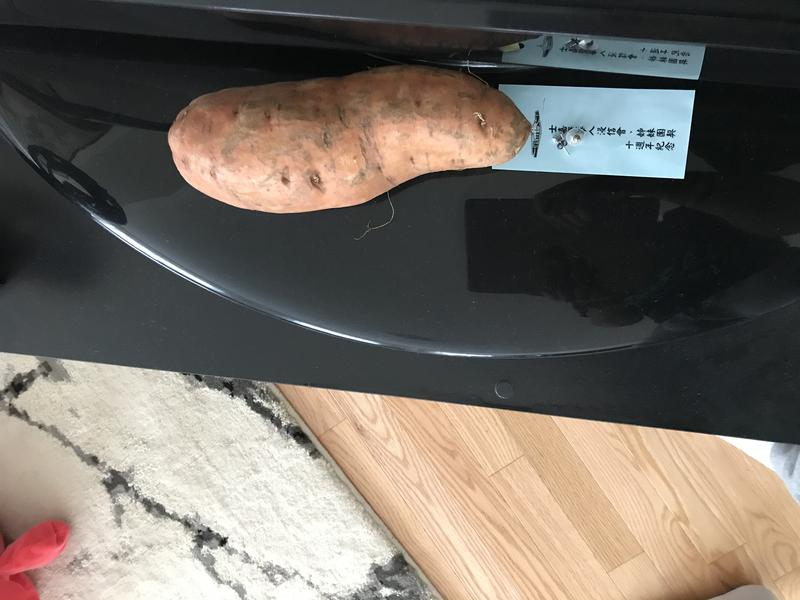sweet_potato: (158, 56, 544, 225)
